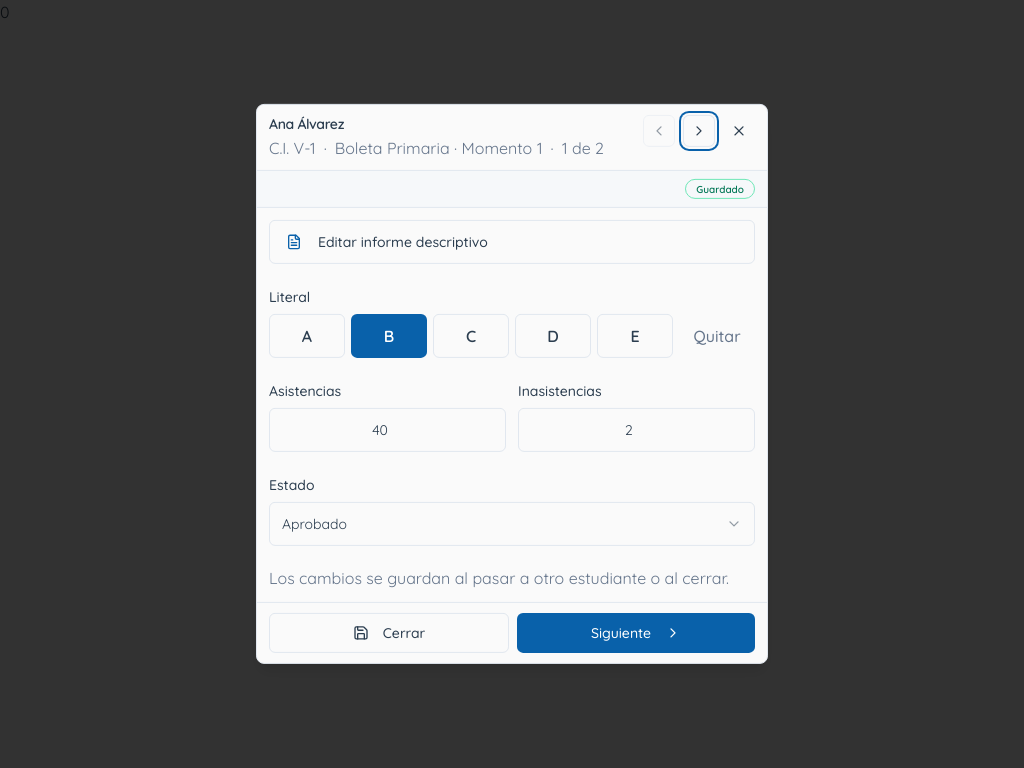
it: ReportCardEntryDialog › saves the whole entry and moves to the next student
The width and height of the screenshot is (1024, 768).
Click the radio button labelled "A" at (307, 336), box [269,314,345,358]
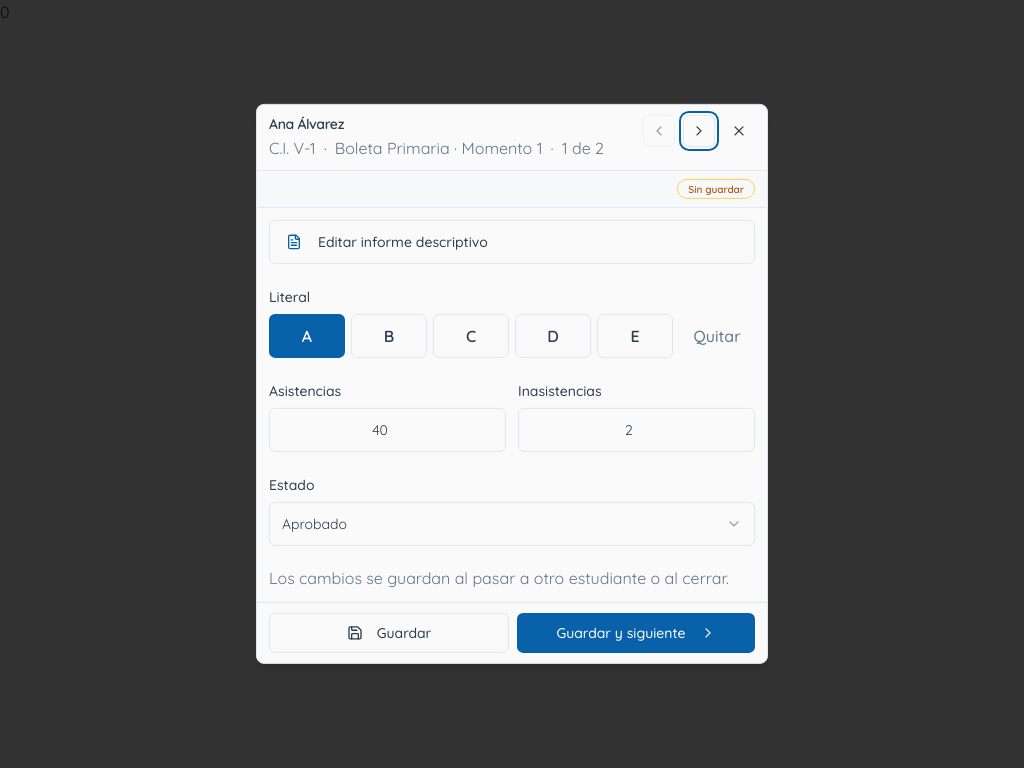
Replace the text in the number field labelled "Inasistencias" with "3" at (636, 430), box [518,408,755,452]
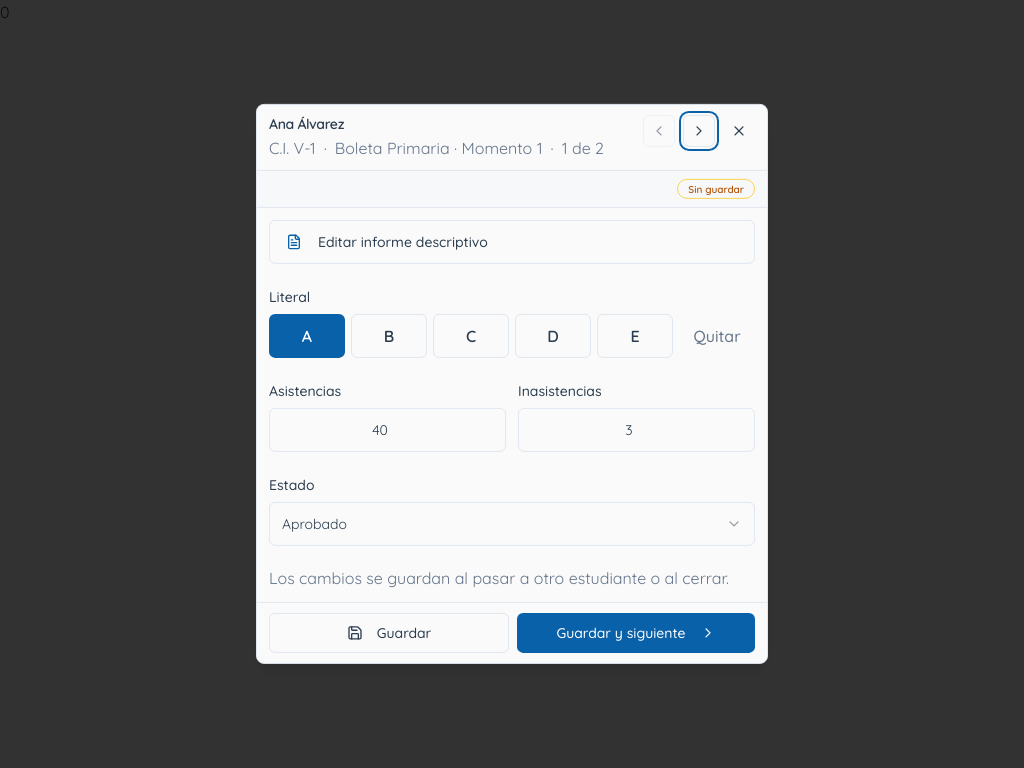
Click the button "Guardar y siguiente" at (636, 633), box [517,613,755,653]
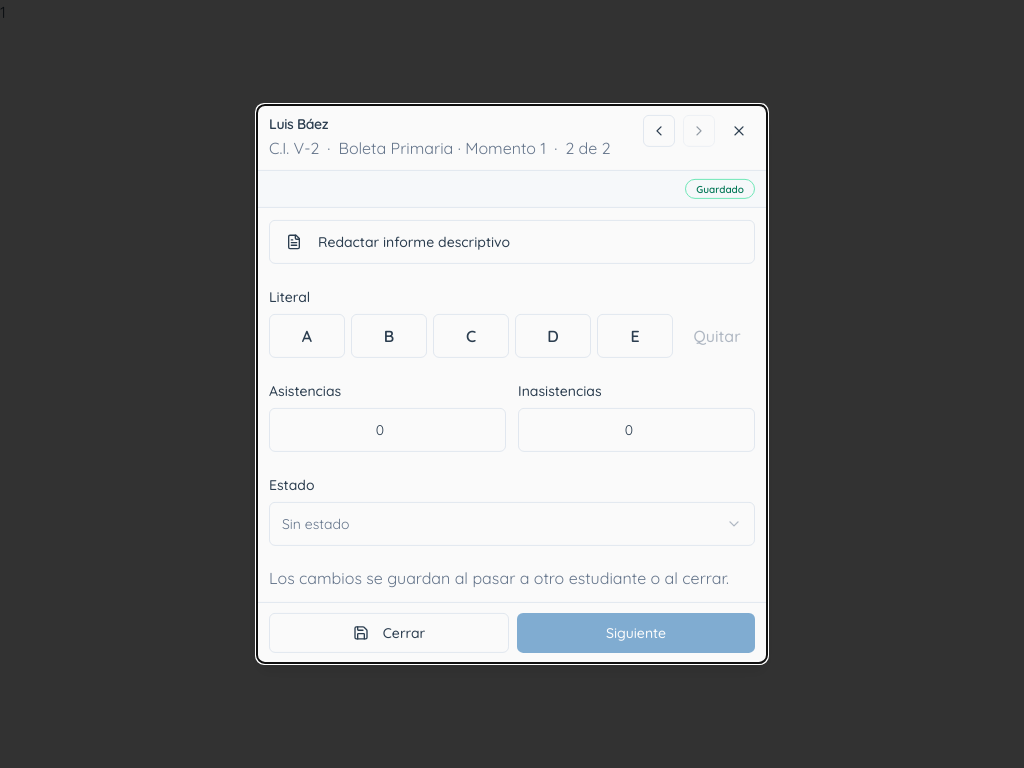
Expected: the text with test id "index" reads "1", [0,2,6,22]
Expected: the button "Redactar informe descriptivo" is shown, [269,220,755,264]
